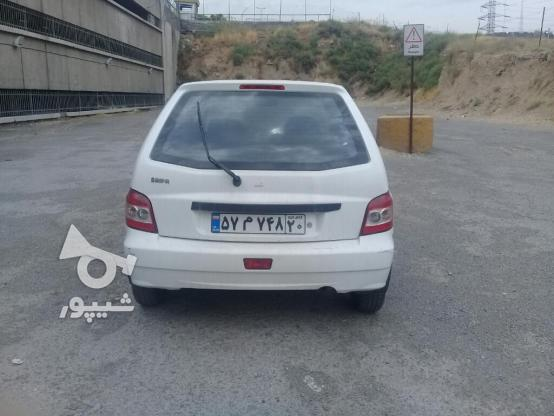car: (212, 211, 312, 235)
